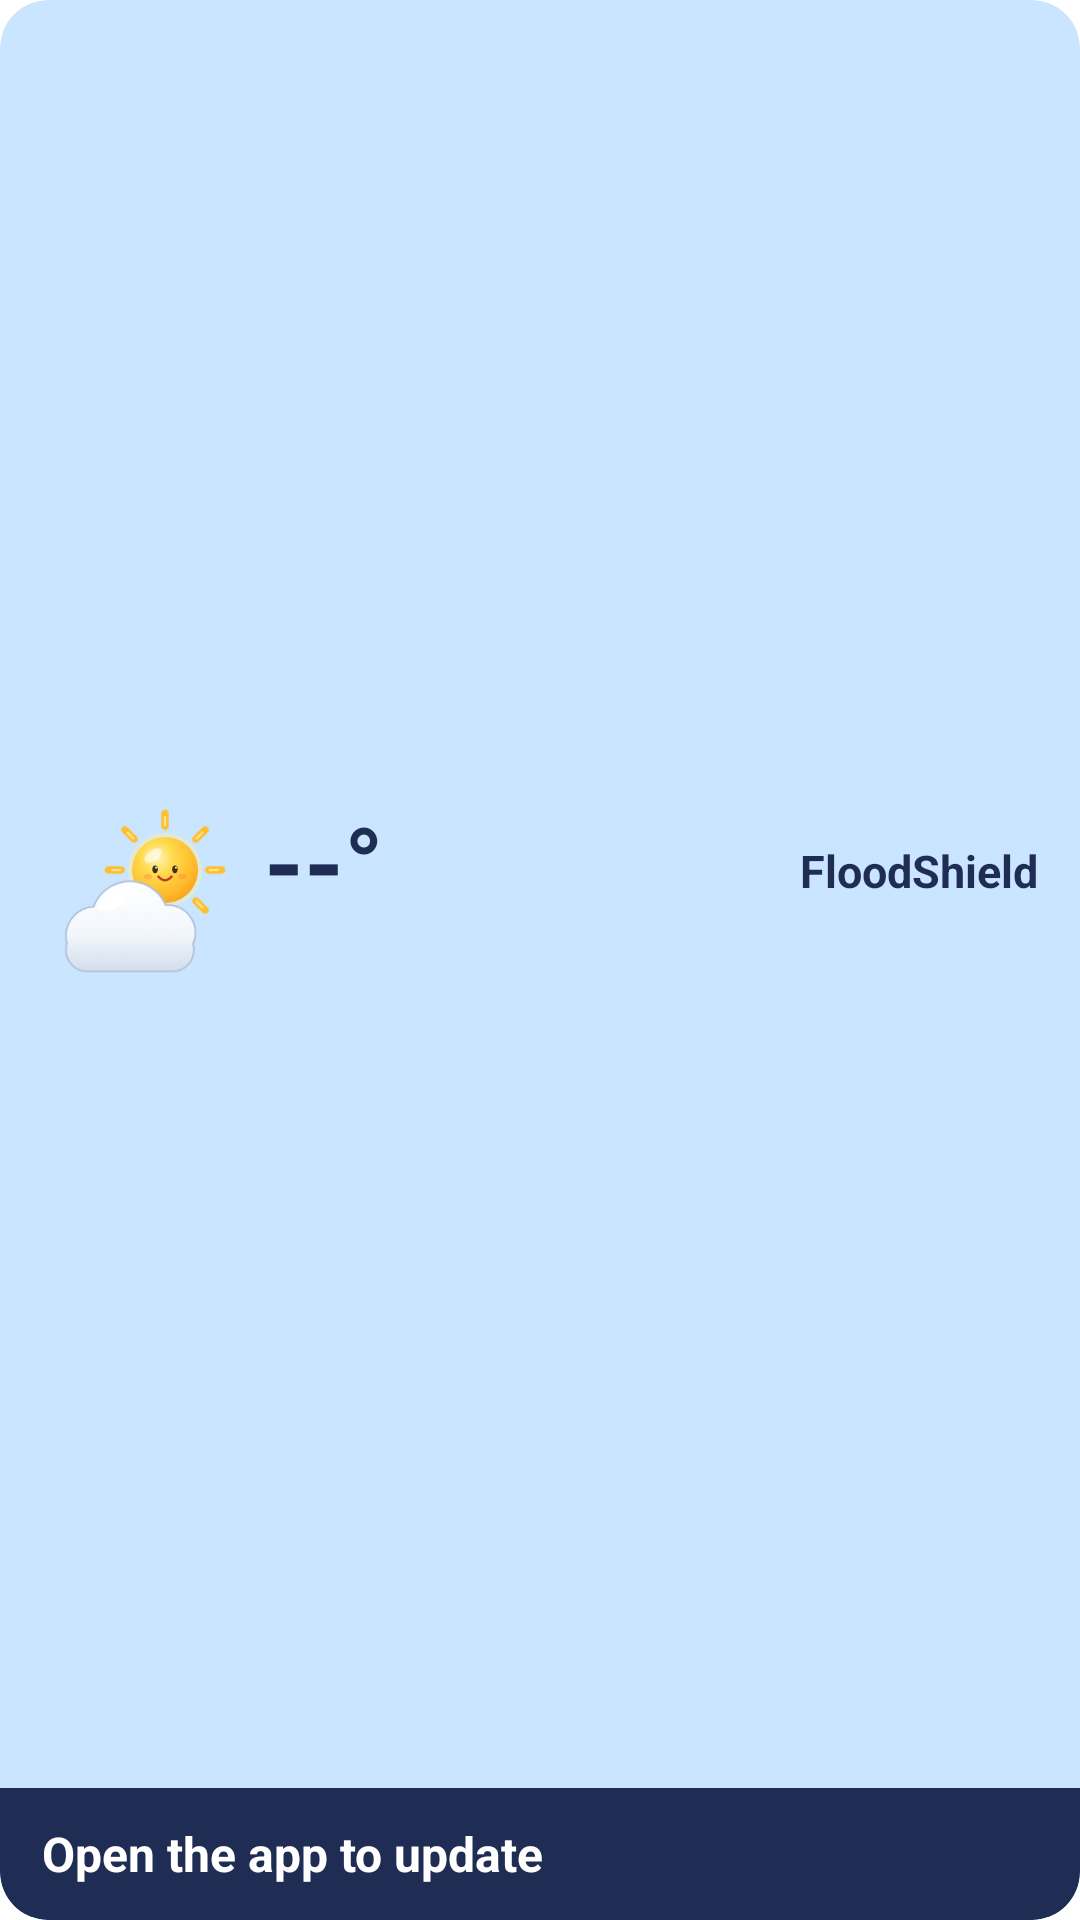

Screen size 1080w x 1920h. Icon name, then its box in pixels as {"x1": x1, "y1": y1, "x2": x2, "y2": y2}:
widget weather cloudy day: {"x1": 65, "y1": 809, "x2": 226, "y2": 972}
